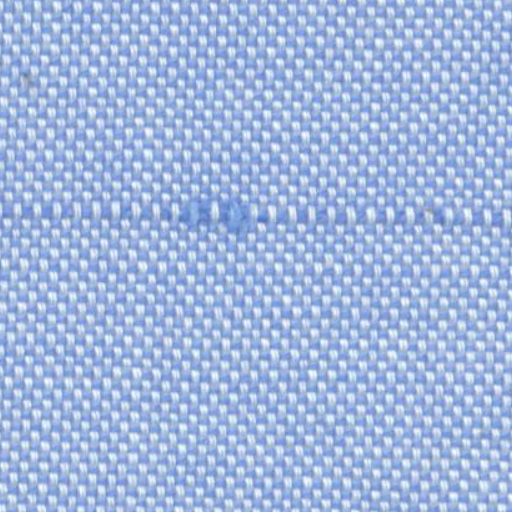DaiSha: (12, 178, 496, 246)
